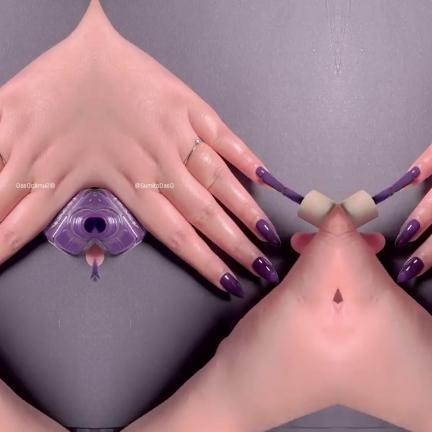Nail: (251, 257, 278, 283), (396, 257, 423, 283), (255, 219, 280, 247), (394, 219, 419, 247), (219, 272, 243, 298), (255, 166, 266, 179), (408, 166, 419, 179), (431, 289, 432, 298)
